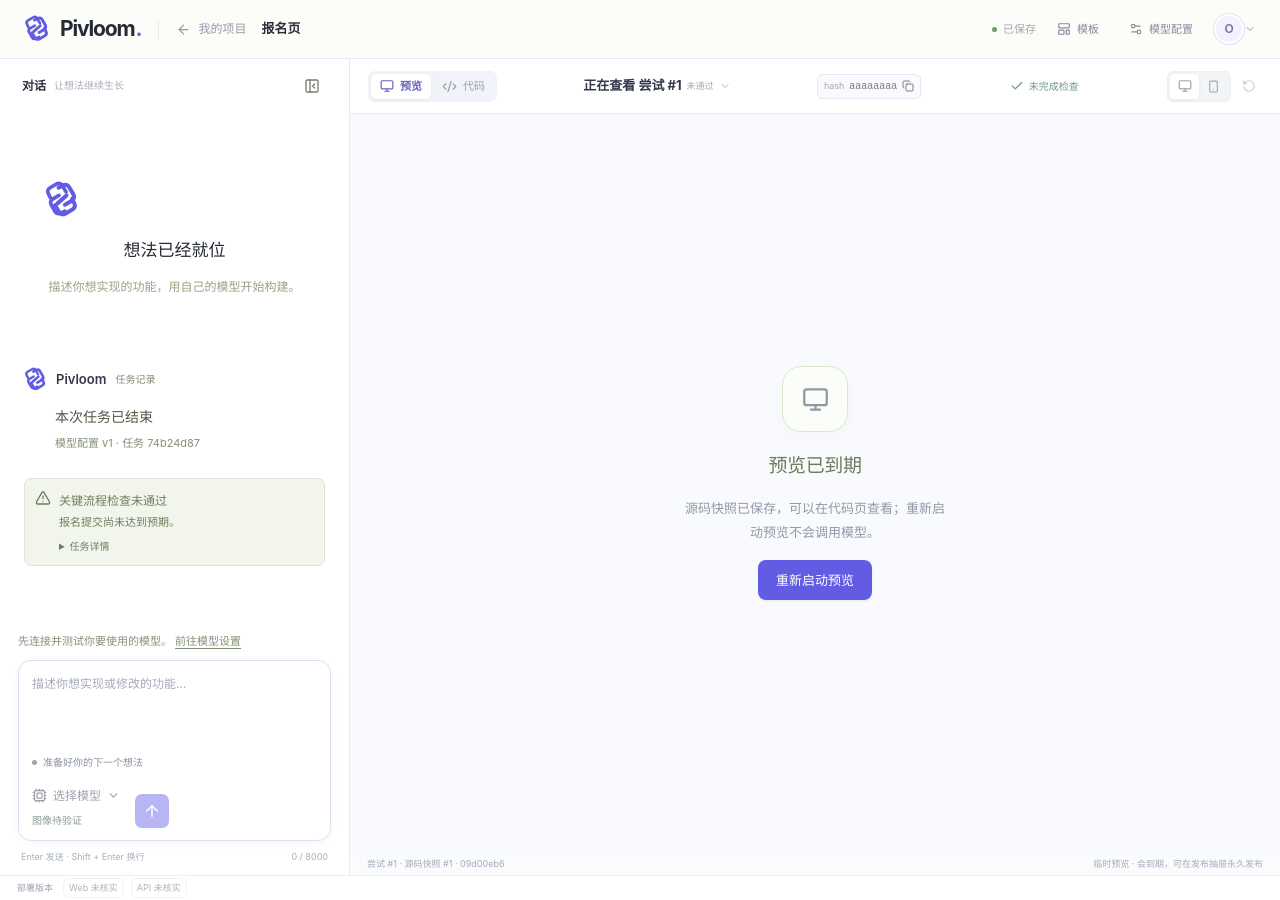
it: keeps a failed check distinct from an unchecked candidate in both result and conversation
The image size is (1280, 900).
Click the button with class "a-toolbar-check".
click(1044, 86)  # box [1004,74,1085,98]
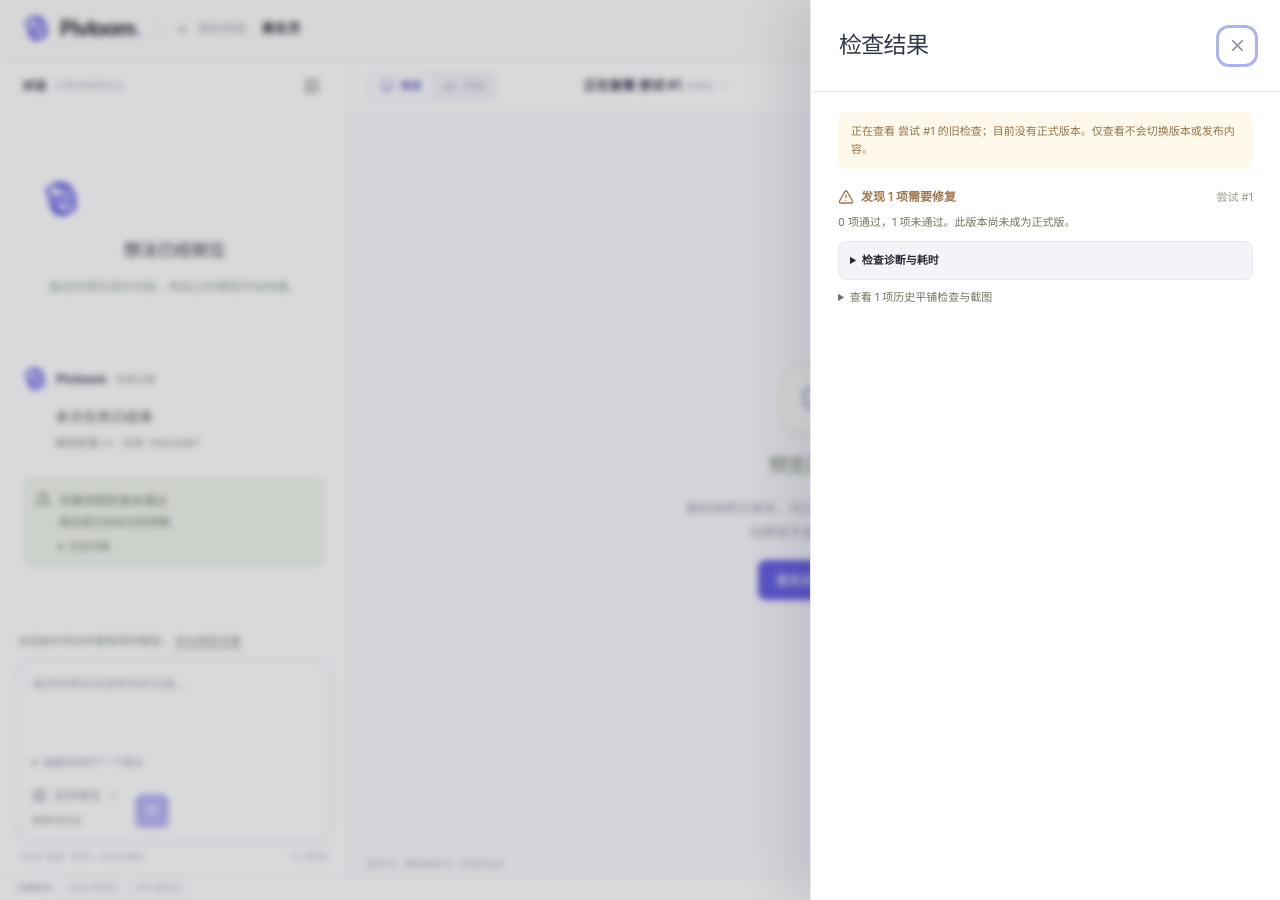
Expected: the text "关键流程检查未通过" is shown, [59,493,167,508]
Now the element named "版本检查结果" shows "发现 1 项需要修复", box [861,189,956,204]
